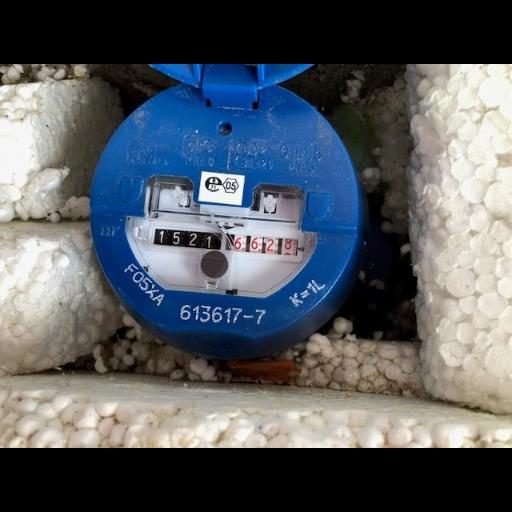1: (198, 231, 216, 249), (154, 228, 168, 246)
2: (182, 231, 200, 249), (262, 237, 278, 255)
5: (166, 229, 184, 247)
6: (230, 234, 247, 252), (246, 236, 262, 254)
8: (279, 238, 297, 256)
border_water_meter_number: (144, 219, 306, 263)
